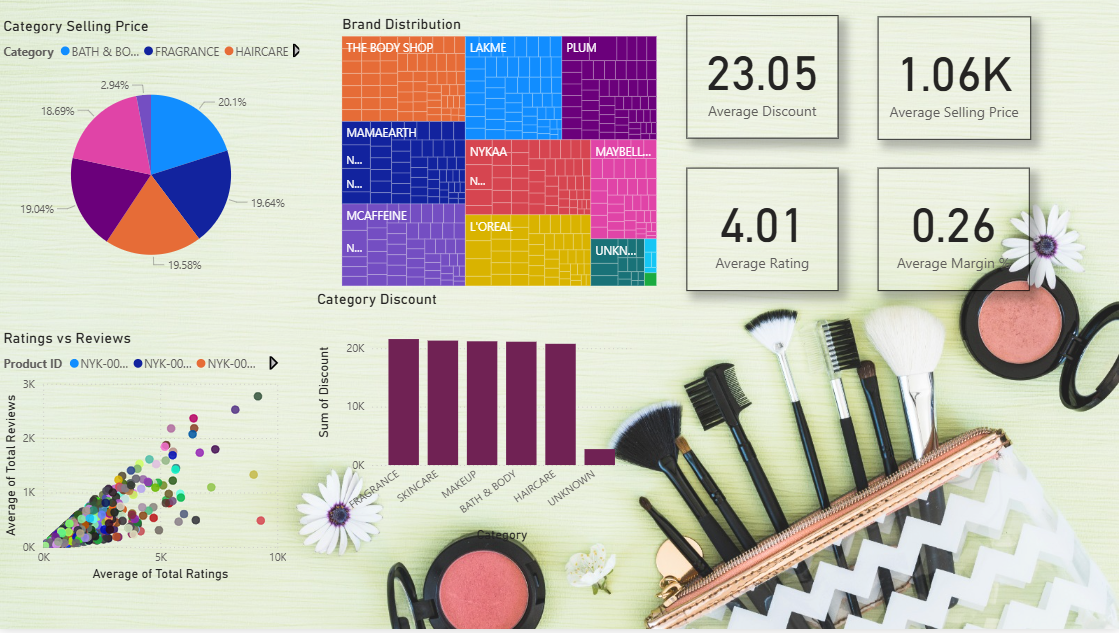

Layout of this report page (visuals, bound fields, positions):
{"tool":"powerbi","page":{"name":"Page 2","canvas":[1280,720],"ordinal":1},"visuals":[{"type":"pieChart","title":"Category Selling Price","fields":{"Category":["FactSales.Category"],"Y":["FactSales.Total Selling Price"]},"box":[11,13.7,503.6,329.3],"z":0},{"type":"treemap","title":"Brand Distribution","fields":{"Group":["FactSales.Brand"],"Details":["FactSales.Product ID"],"Values":["Sum(FactSales.Margin %)"]},"box":[575,13.7,478.9,329.3],"z":1000},{"type":"columnChart","title":"Category Discount","fields":{"Category":["FactSales.Category"],"Y":["Sum(FactSales.Discount)"]},"box":[11,381.5,503.6,325.2],"z":2000},{"type":"ribbonChart","title":"Ratings Vs Reviews","fields":{"Category":["FactSales.Product ID"],"Y":["Avg(FactSales.Total Ratings)","Avg(FactSales.Total Reviews)"]},"box":[575,381.5,489.9,325.2],"z":3000},{"type":"card","fields":{"Values":["Avg(FactSales.Selling Price)"]},"box":[1079.9,13.7,185.2,91.9],"z":4000},{"type":"card","fields":{"Values":["Avg(FactSales.Margin %)"]},"box":[1079.9,123.5,185.2,101.5],"z":5000},{"type":"card","fields":{"Values":["FactSales.Average Rating"]},"box":[1081.3,359.5,185.2,97.4],"z":6000},{"type":"card","fields":{"Values":["FactSales.Average Discount"]},"box":[1079.9,244.3,185.2,98.8],"z":7000}]}

Visuals, with their boxes in screenshot pixels (x1, y1, x2, y2), scaled from the page's 1280x720 canvas onto the 1119x633 screenshot:
"Category Selling Price" pieChart: <box>10,12,450,302</box>
"Brand Distribution" treemap: <box>503,12,921,302</box>
"Category Discount" columnChart: <box>10,335,450,621</box>
"Ratings Vs Reviews" ribbonChart: <box>503,335,931,621</box>
card - Avg(FactSales.Selling Price): <box>944,12,1106,93</box>
card - Avg(FactSales.Margin %): <box>944,109,1106,198</box>
card - FactSales.Average Rating: <box>945,316,1107,402</box>
card - FactSales.Average Discount: <box>944,215,1106,302</box>
